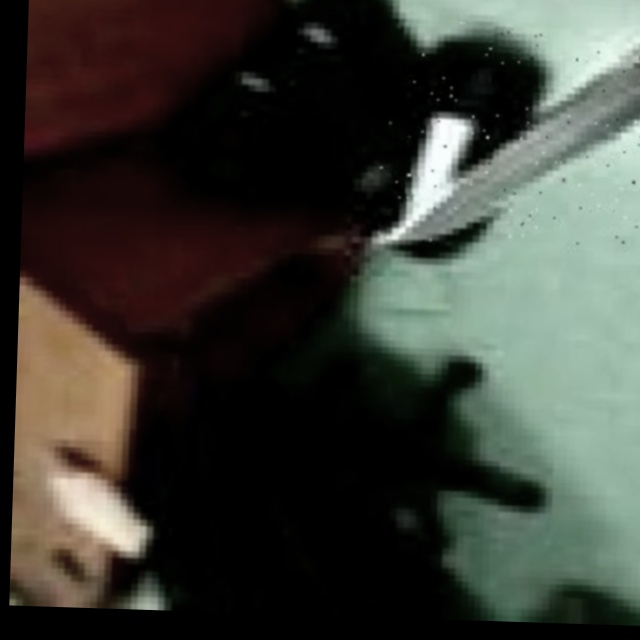Sharp-Object: (378, 18, 640, 249)
